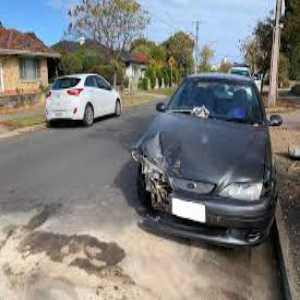bonnet: (137, 133, 193, 177)
bumper: (132, 184, 177, 231)
